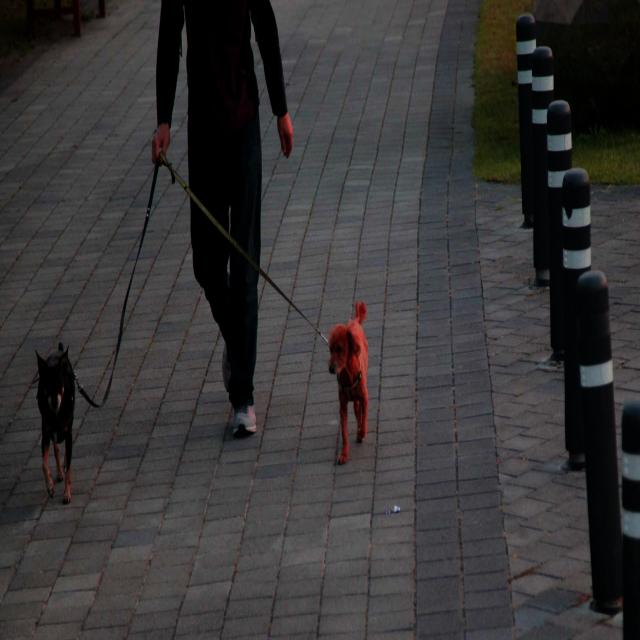Leashed_Dog: (35, 123, 213, 505), (231, 202, 368, 465)
